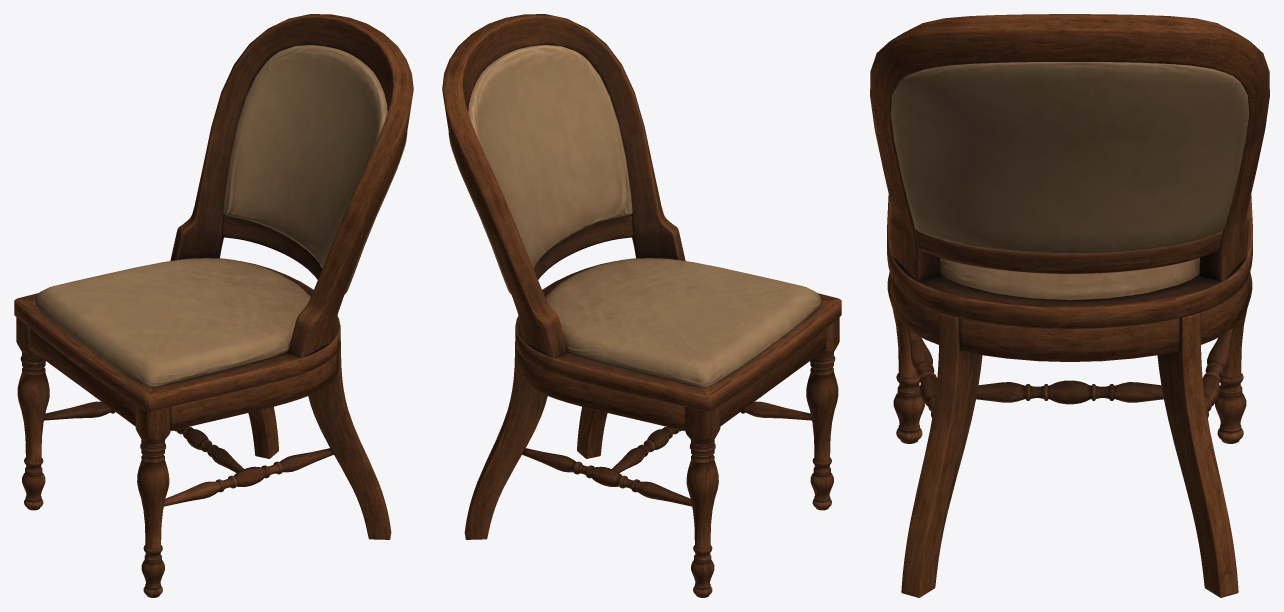
The model's file is Chair-transformed.glb.
3 renders of one model, left to right at view 1: azimuth 30°, elevation 25°; view 2: azimuth 150°, elevation 25°; view 3: azimuth 270°, elevation 25°, orthographic. The views are drawn at different scales.
Parts seen in each view (by area): view 1: Chair_Chair_0; view 2: Chair_Chair_0; view 3: Chair_Chair_0.
Boxes of the visible parts, bbox=[...] form: Chair_Chair_0: bbox=[14, 14, 413, 597]; Chair_Chair_0: bbox=[442, 14, 841, 597]; Chair_Chair_0: bbox=[870, 14, 1269, 597].
Bounding box in the file's own units: 0.6988 × 0.9756 × 0.5827.
1 material, 1 textured.
